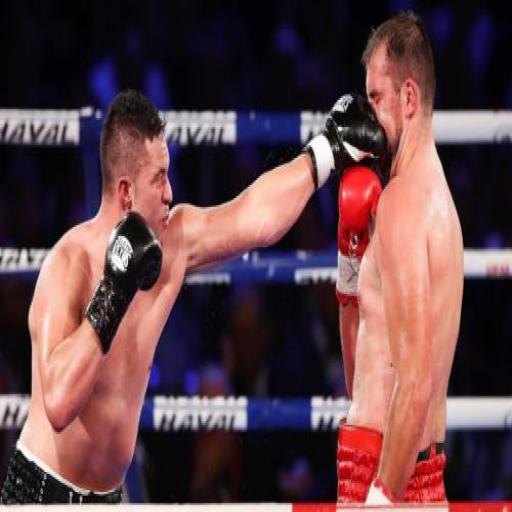boxing: (0, 85, 387, 505)
